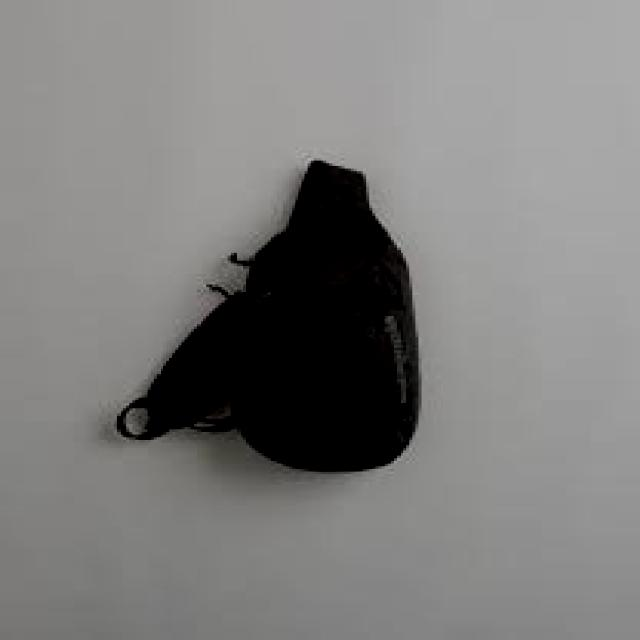backpack: (115, 159, 423, 473)
